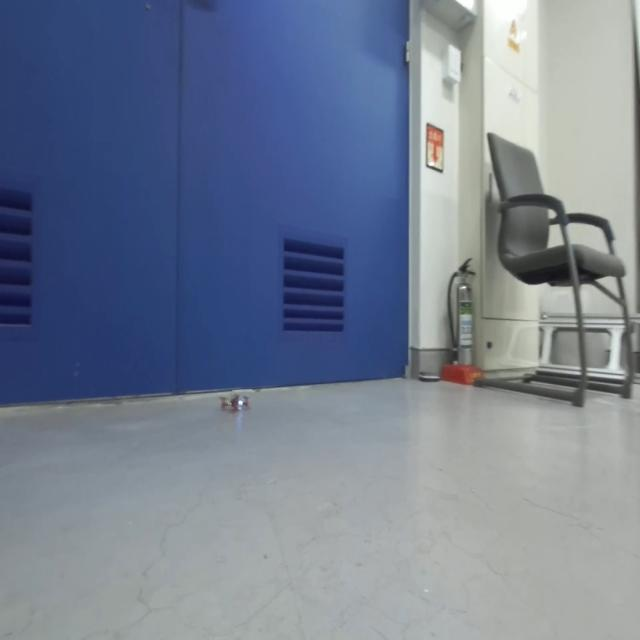crazyflie: (215, 389, 252, 418)
